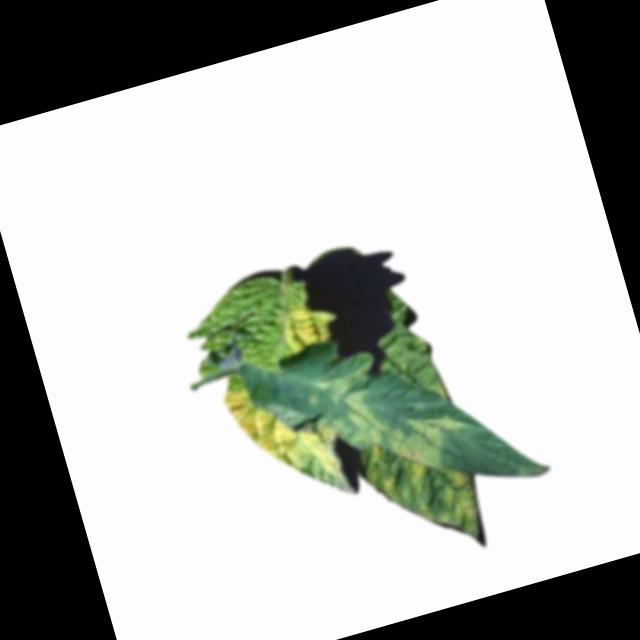Leaf_Mold: (314, 336, 474, 493), (354, 421, 490, 571), (218, 365, 341, 496), (275, 298, 346, 357)
